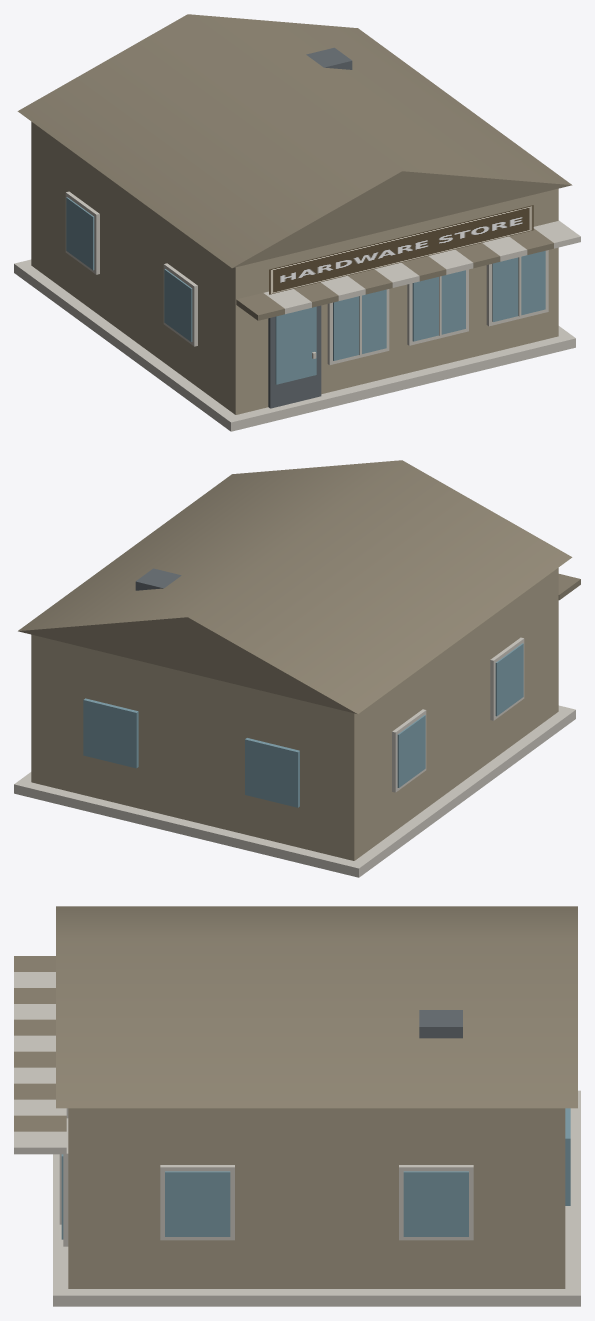
File: hardware_store.glb
The picture shows the model from 3 angles, top to bottom: view 1: azimuth 30°, elevation 25°; view 2: azimuth 150°, elevation 25°; view 3: azimuth 270°, elevation 25°; orthographic projection. The views are drawn at different scales.
Visible parts, largest first — view 1: world; view 2: world; view 3: world.
Boxes of the visible parts, x1,y1,x2,y2 form: world: (14,14,580,431); world: (14,460,580,877); world: (14,906,580,1306).
Bounding box in the file's own units: 7.8 × 4.7 × 9.12.
Materials: 2 (1 with a texture image).
